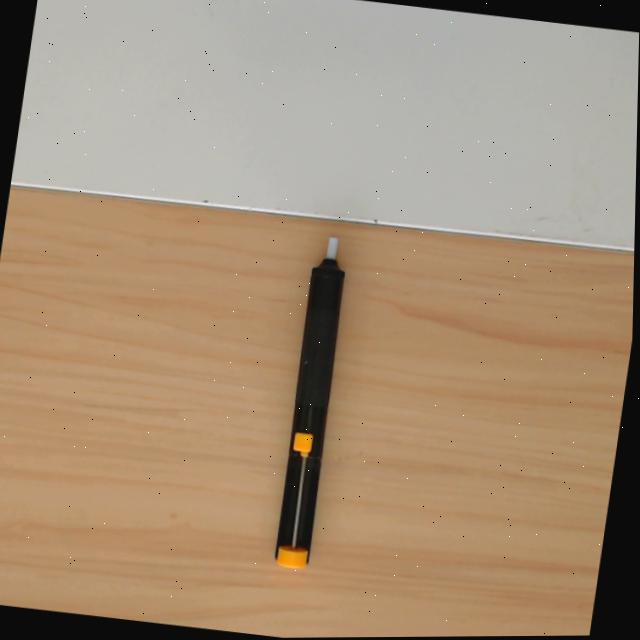Desoldering-Pump: (273, 236, 350, 571)
